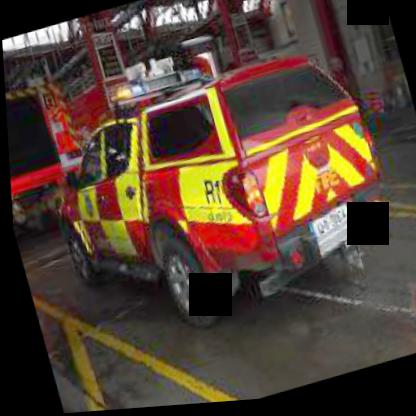emergency: (18, 4, 412, 366)
